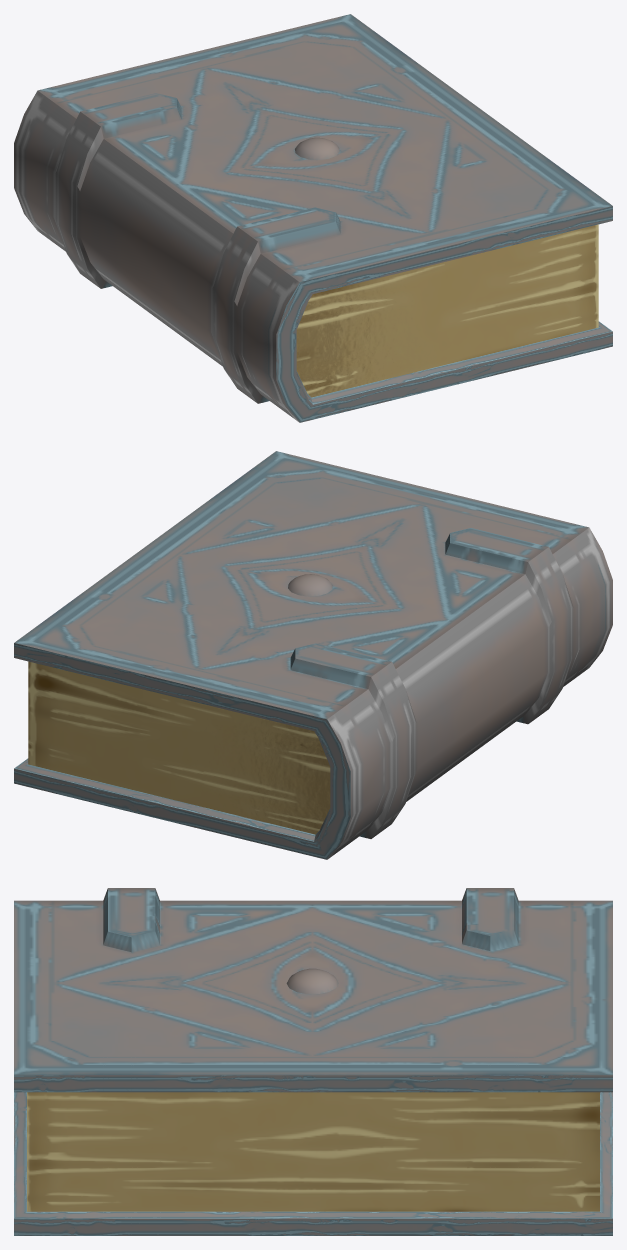
Rendered from Book_4.fbx.
3 renders of one model, top to bottom at view 1: azimuth 30°, elevation 25°; view 2: azimuth 150°, elevation 25°; view 3: azimuth 270°, elevation 25°, orthographic. The views are drawn at different scales.
Parts seen in each view (by area): view 1: Book_4; view 2: Book_4; view 3: Book_4.
Boxes of the visible parts, <box> form: Book_4: <box>14,14,612,422</box>; Book_4: <box>14,451,612,859</box>; Book_4: <box>14,888,612,1235</box>.
Bounding box in the file's own units: 24.59 × 11.3 × 33.09.
